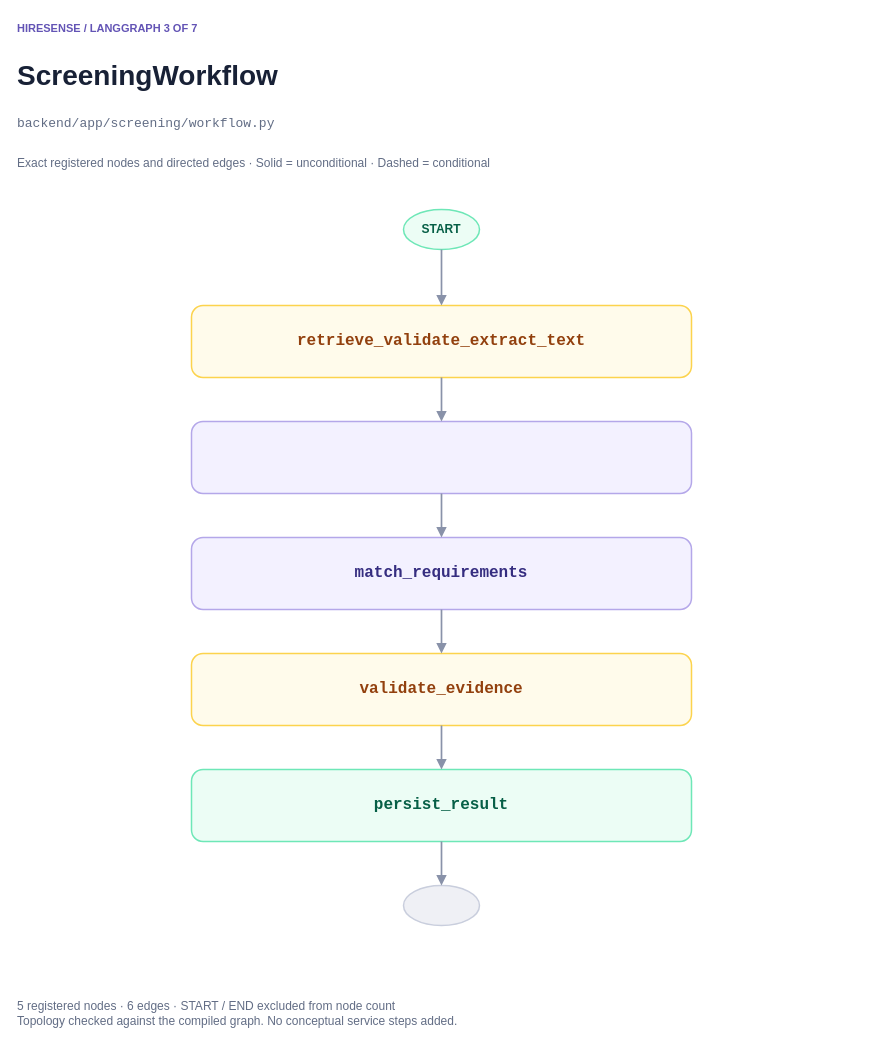
This 882x1058 diagram has some shape labels left out. Each missing label, with the box of its shape:
END: (402, 884, 480, 926)
extract_structured_profile: (190, 420, 692, 494)
